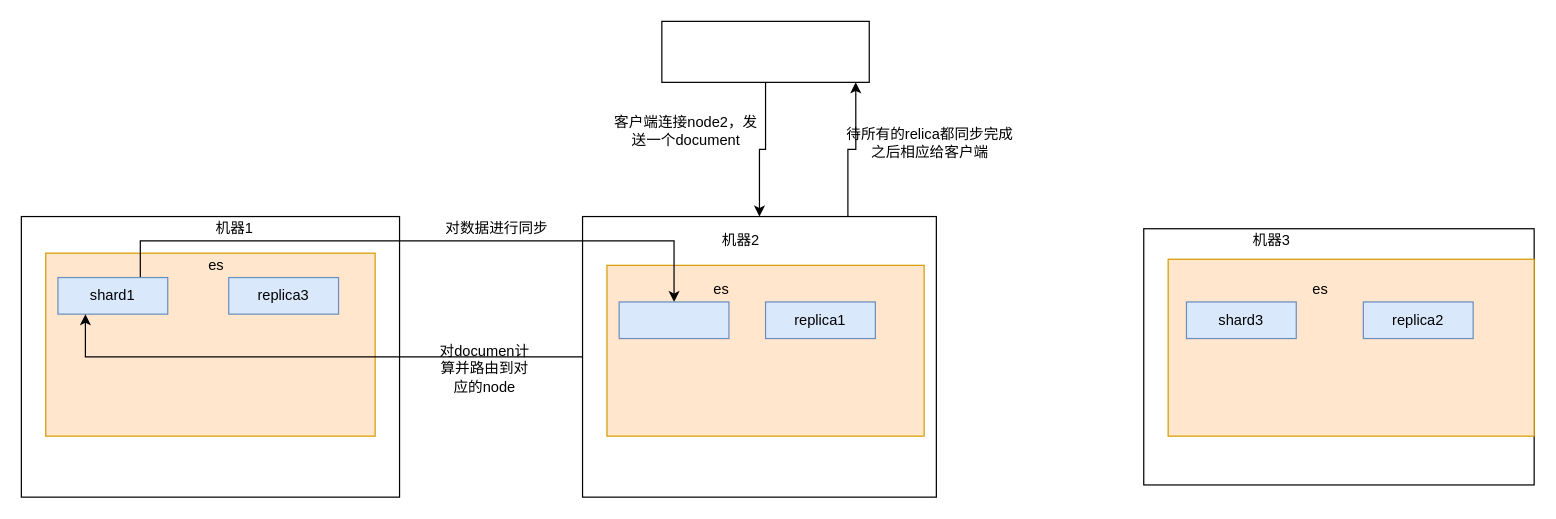
Some shapes in this 1556 by 519 pixel diagram are drawn without their labels. Here are the shapes that lost their labels. From the top down, the centre of each, then its label:
At pixel 765 51: "客户端".
At pixel 673 320: "shard2".
